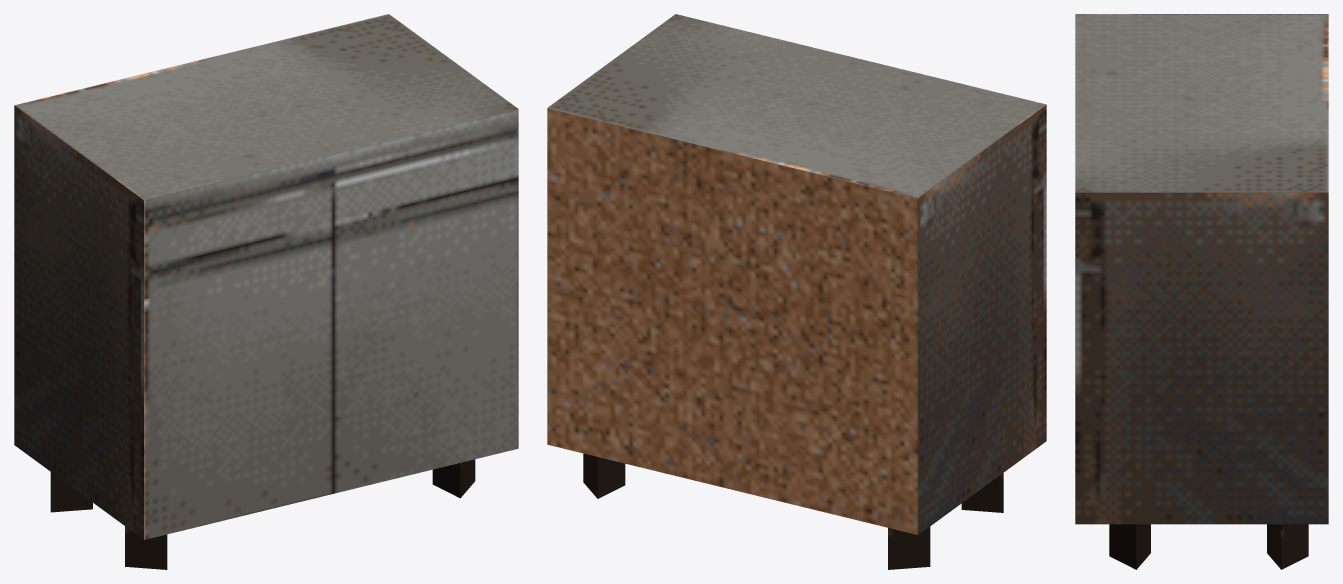
File: kitchen_table1.fbx
The picture shows the model from 3 angles, left to right: view 1: azimuth 30°, elevation 25°; view 2: azimuth 150°, elevation 25°; view 3: azimuth 270°, elevation 25°; orthographic projection. The views are drawn at different scales.
Visible parts, largest first — view 1: Kitchen table 1; view 2: Kitchen table 1; view 3: Kitchen table 1.
Part boxes in pixels (<box>): Kitchen table 1: <box>14,14,518,569</box>; Kitchen table 1: <box>547,14,1046,569</box>; Kitchen table 1: <box>1075,14,1328,569</box>.
Size of the model in its own units: 150 by 150 by 90.
Materials: 1 (1 with a texture image).
